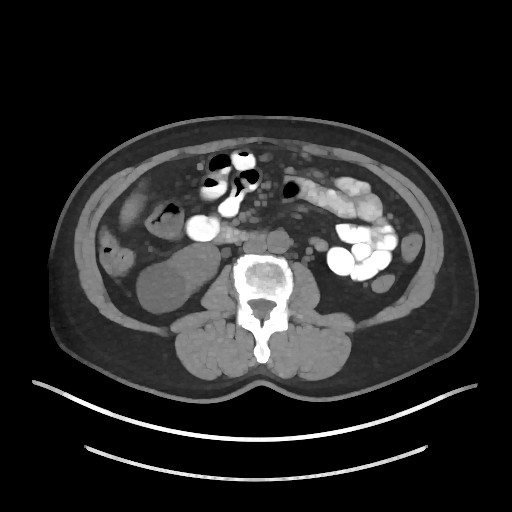Lesion: (132, 262, 189, 316)
